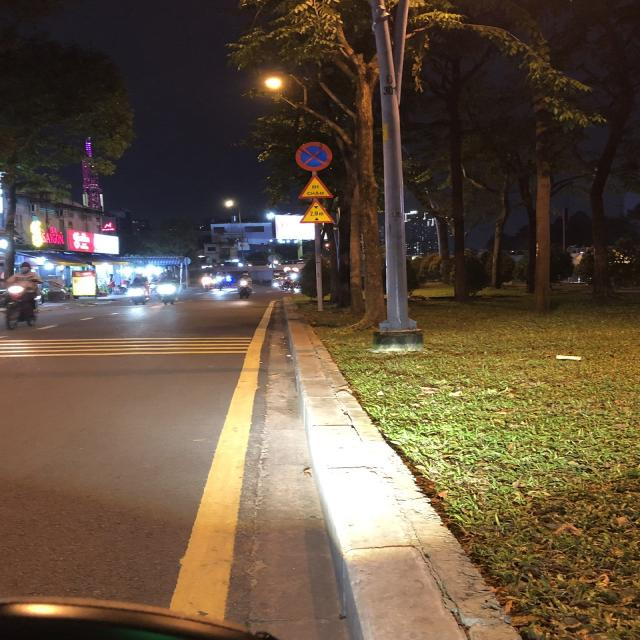Bien bao cam dung xe va do xe: (290, 138, 339, 173)
Bien bao chieu cao tinh khong thuc te: (295, 198, 338, 226)
Bien bao di cham: (293, 172, 339, 200)
